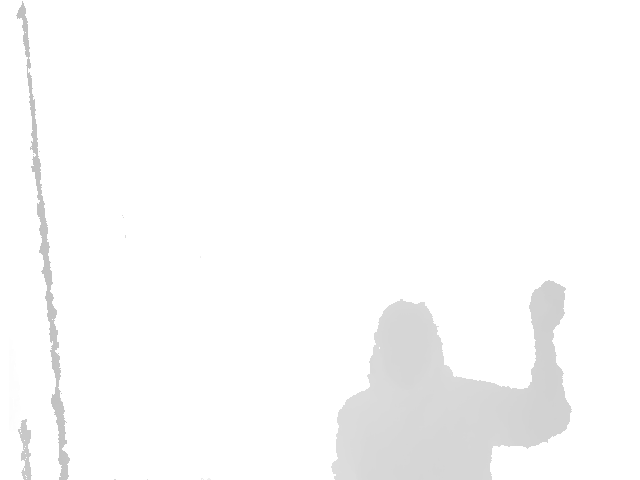hand: (528, 279, 567, 336)
head: (368, 299, 445, 390)
person: (331, 279, 573, 480)
